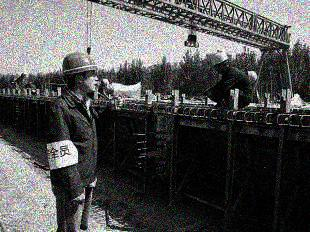helmet: (62, 49, 101, 93), (209, 52, 231, 74)
